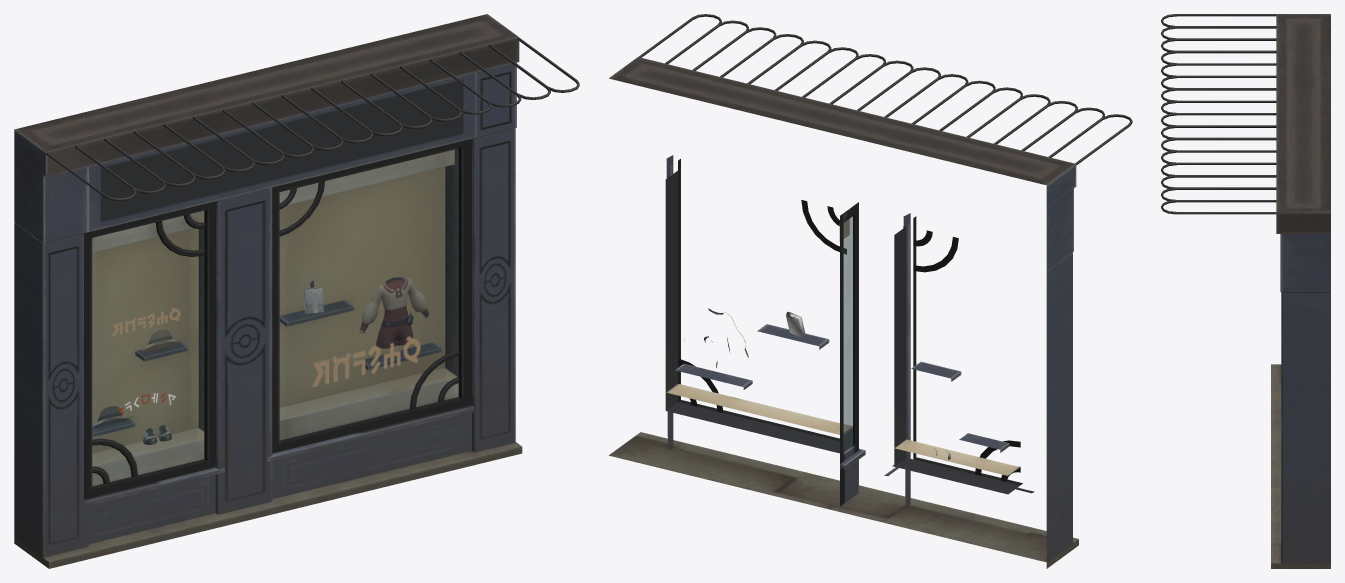
Rendered from t1_b_boutique4_wall.glb.
3 renders of one model, left to right at view 1: azimuth 30°, elevation 25°; view 2: azimuth 150°, elevation 25°; view 3: azimuth 270°, elevation 25°, orthographic. The views are drawn at different scales.
Parts seen in each view (by area): view 1: nomerge_t1_b_boutique4_model_mesh; view 2: nomerge_t1_b_boutique4_model_mesh; view 3: nomerge_t1_b_boutique4_model_mesh.
Boxes of the visible parts, x1=… form: nomerge_t1_b_boutique4_model_mesh: x1=14, y1=14, x2=579, y2=568; nomerge_t1_b_boutique4_model_mesh: x1=609, y1=14, x2=1132, y2=568; nomerge_t1_b_boutique4_model_mesh: x1=1161, y1=14, x2=1330, y2=568.
Bounding box in the file's own units: 5.5 × 4.6 × 1.99.
3 materials, 3 textured.
